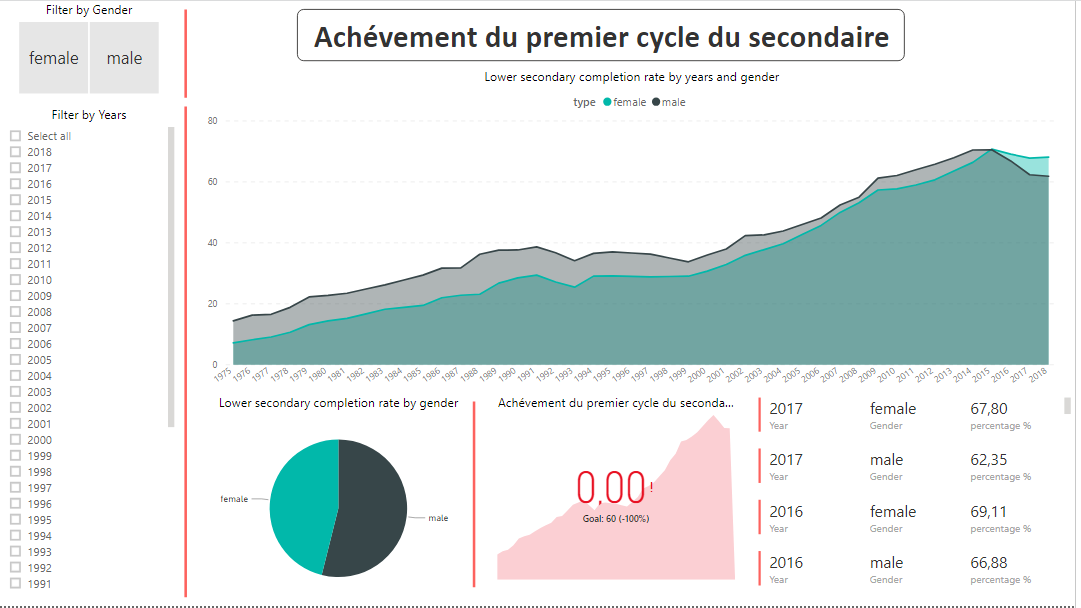

This screenshot's page, from the dashboard's own definition file:
{"tool":"powerbi","page":{"name":"Achévement du premier cycle du secondaire","canvas":[1280,720],"ordinal":3},"visuals":[{"type":"areaChart","title":"Lower secondary completion rate by years and gender","fields":{"Category":["mydb temps.year"],"Y":["Avg(mydb youth.lower_secondary_completion_rate)"],"Series":["mydb gender.type"]},"box":[243.2,79.8,1019.9,387.1],"z":0},{"type":"textbox","box":[354.5,9.5,723.3,61.9],"z":1000},{"type":"basicShape","box":[210.9,0.3,22.6,124.7],"z":2000},{"type":"slicer","title":"Filter by Gender","fields":{"Values":["mydb gender.type"]},"box":[0,0,214.1,114.9],"z":3000},{"type":"basicShape","box":[210.9,115.5,22.6,604.4],"z":4000},{"type":"slicer","title":"Filter by Years","fields":{"Values":["mydb temps.year"]},"box":[0,124.6,214.1,583.1],"z":5000},{"type":"pieChart","title":"Lower secondary completion rate by gender","fields":{"Y":["Avg(mydb youth.lower_secondary_completion_rate)"],"Category":["mydb gender.type"]},"box":[236.7,467.5,334.3,252.2],"z":6000},{"type":"multiRowCard","fields":{"Values":["mydb temps.year","mydb gender.type","Sum(mydb youth.lower_secondary_completion_rate)"]},"box":[898.1,466.3,381.9,252.2],"z":7000},{"type":"kpi","title":"Achévement du premier cycle du secondaire","fields":{"Indicator":["Avg(mydb youth.lower_secondary_completion_rate)"],"Goal":["mydb youth.seconadry_goal"],"TrendLine":["mydb temps.year"]},"box":[587.7,467.5,292.6,226],"z":8000},{"type":"basicShape","box":[559.1,466.3,11.9,241.5],"z":9000}]}

Visuals, with their boxes in screenshot pixels (x1, y1, x2, y2), scaled from the page's 1280x720 canvas onto the 1081x608 screenshot:
"Lower secondary completion rate by years and gender" areaChart: select_region(205, 67, 1067, 394)
textbox: select_region(299, 8, 910, 60)
basicShape: select_region(178, 0, 197, 106)
"Filter by Gender" slicer: select_region(0, 0, 181, 97)
basicShape: select_region(178, 98, 197, 607)
"Filter by Years" slicer: select_region(0, 105, 181, 598)
"Lower secondary completion rate by gender" pieChart: select_region(200, 395, 482, 607)
multiRowCard - mydb temps.year x mydb gender.type: select_region(758, 394, 1080, 607)
"Achévement du premier cycle du secondaire" kpi: select_region(496, 395, 743, 586)
basicShape: select_region(472, 394, 482, 598)
